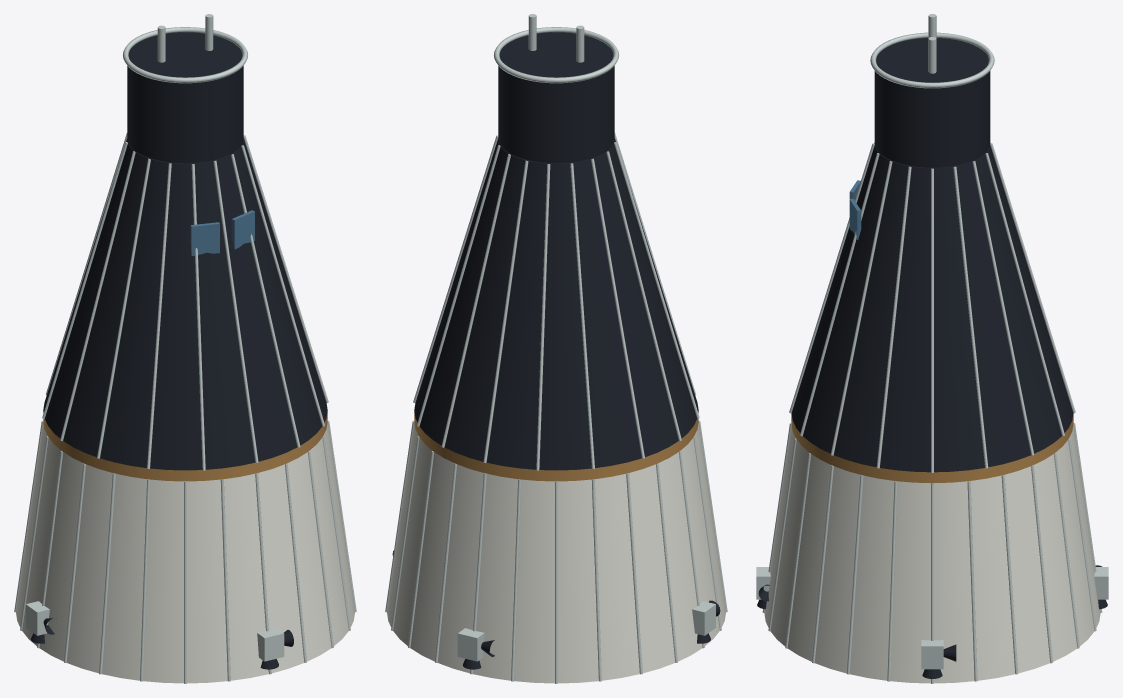
Rendered from gemini.glb.
3 renders of one model, left to right at view 1: azimuth 30°, elevation 25°; view 2: azimuth 150°, elevation 25°; view 3: azimuth 270°, elevation 25°, orthographic.
Parts seen in each view (by area): view 1: crew, service, docking, heatshield, propulsion; view 2: crew, service, docking, heatshield, propulsion; view 3: crew, service, docking, heatshield, propulsion.
Part boxes in pixels (<box>): crew: <box>42,132,328,470</box>; service: <box>14,420,356,683</box>; docking: <box>123,14,247,163</box>; heatshield: <box>43,412,327,481</box>; propulsion: <box>26,601,293,669</box>; crew: <box>413,132,699,470</box>; service: <box>385,420,727,683</box>; docking: <box>494,14,618,163</box>; heatshield: <box>414,412,698,481</box>; propulsion: <box>392,550,720,669</box>; crew: <box>789,142,1075,472</box>; service: <box>762,423,1102,683</box>; docking: <box>870,14,994,167</box>; heatshield: <box>791,413,1073,483</box>; propulsion: <box>756,565,1108,678</box>.
Size of the model in its own units: 2.2 by 4.03 by 2.2.
